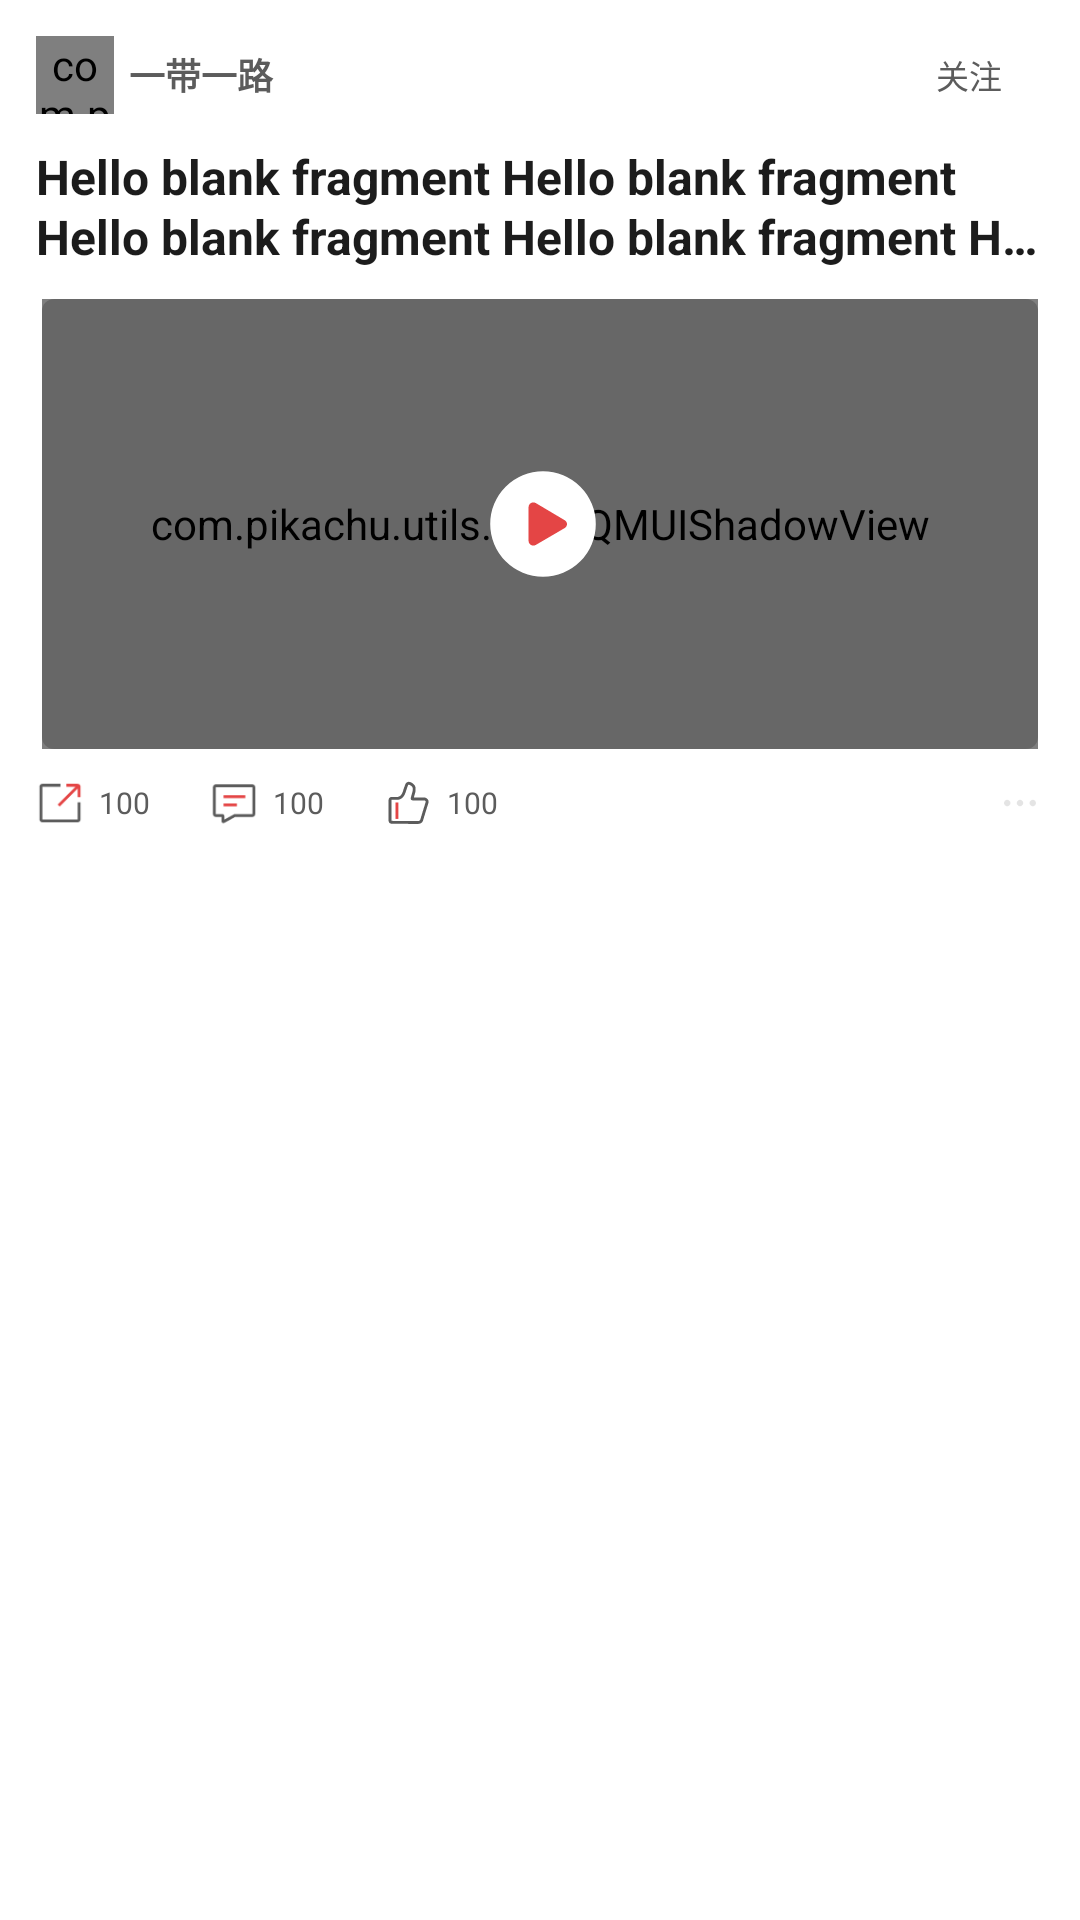

Where icons sit on this 1080px x 1920px app screen, as (x1, y1, x2, y2):
item good: (388, 781, 429, 824)
item many: (1004, 800, 1035, 806)
item msg: (212, 784, 256, 824)
item share: (39, 783, 81, 823)
item video pay: (484, 471, 603, 577)
